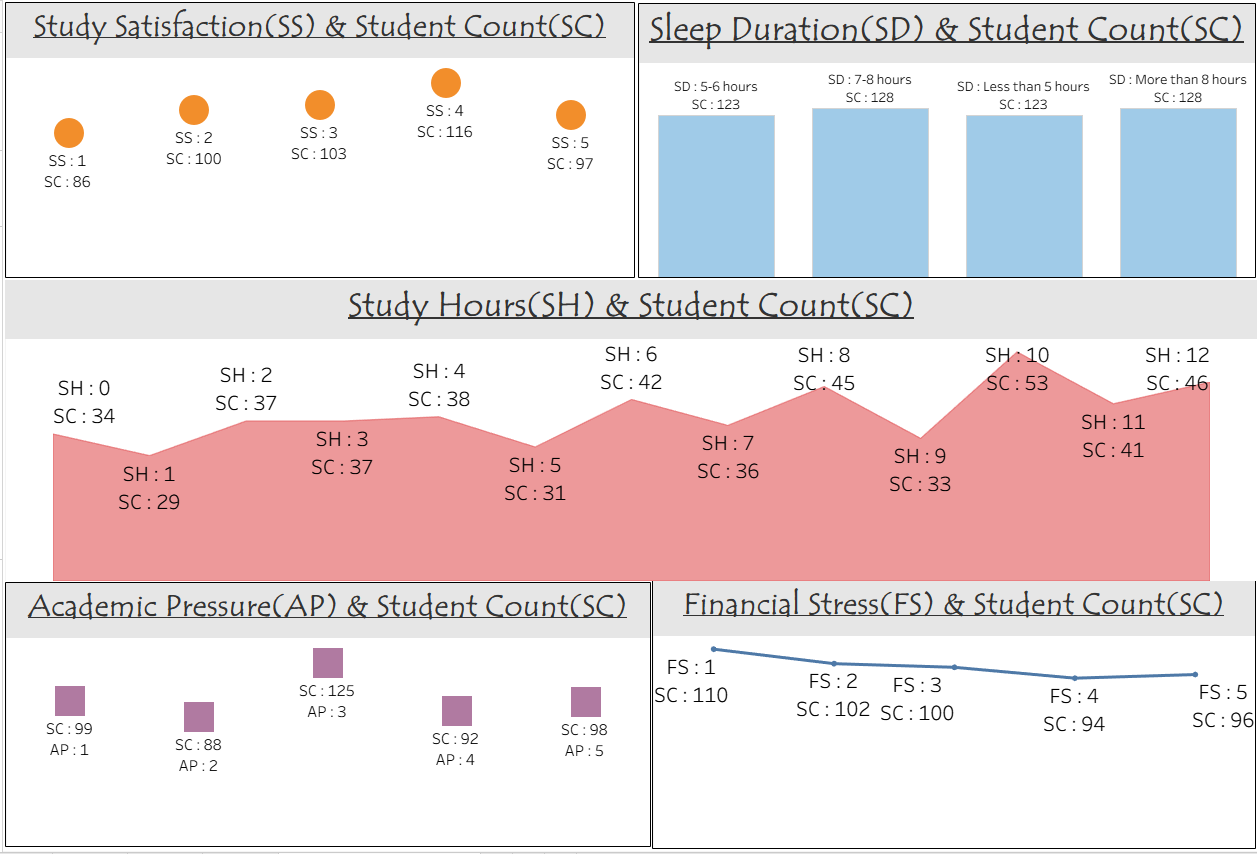

The page's visual inventory and layout, read from the dashboard file:
{"tool":"tableau","page":{"name":"Student Count Analysis","canvas":[1000,1000],"units":"permille","ordinal":0},"visuals":[{"type":"worksheet","title":"SS & SC","mark":"Circle","rows":["Index_Column"],"cols":["Study_Satisfaction"],"box":[1.8,2.4,501.5,324.3]},{"type":"worksheet","title":"SD & SC","mark":"Bar","rows":["Index_Column"],"cols":["Sleep_Duration"],"box":[505.1,3.5,491.9,323.2]},{"type":"worksheet","title":"SH & SC","mark":"Area","rows":["Index_Column"],"cols":["Study_Hours"],"box":[1.8,329,997,353.7]},{"type":"worksheet","title":"FS & SC","mark":"Line","rows":["Index_Column"],"cols":["Financial_Stress"],"box":[516.6,681.6,480.4,316.1]},{"type":"worksheet","title":"AP & SC","mark":"Square","rows":["Index_Column"],"cols":["Academic_Pressure"],"box":[1.2,683.9,514.2,311.4]}]}

Visuals, with their boxes on the dashboard's canvas, which has no fixed pixel size, in thousandths of its width and height (x1, y1, x2, y2). These are canvas units, not pixel positions in the 1257x854 screenshot, which may show the page scaled, cropped or inside an application window:
"SS & SC" worksheet (Circle marks): left=2, top=2, right=503, bottom=327
"SD & SC" worksheet (Bar marks): left=505, top=4, right=997, bottom=327
"SH & SC" worksheet (Area marks): left=2, top=329, right=999, bottom=683
"FS & SC" worksheet (Line marks): left=517, top=682, right=997, bottom=998
"AP & SC" worksheet (Square marks): left=1, top=684, right=515, bottom=995
